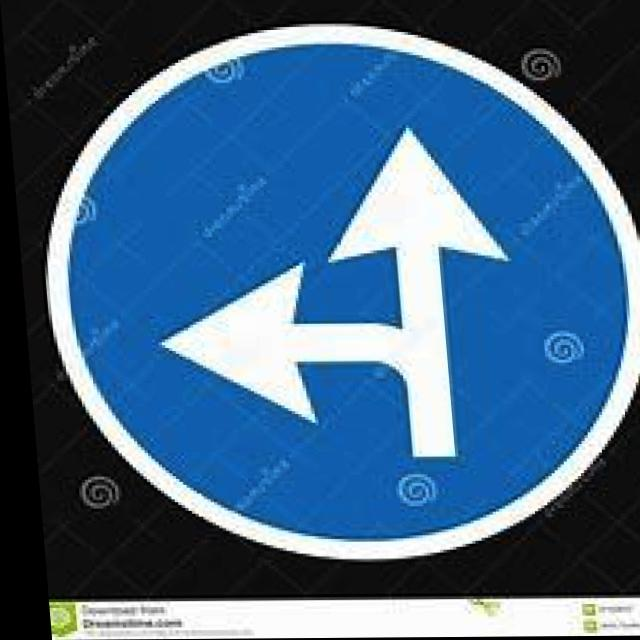COMPULSARY_AHEAD_OR_TURN_LEFT: (25, 20, 640, 560)
